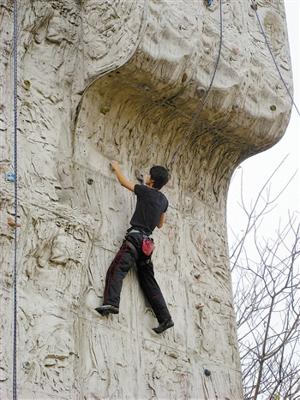person: (95, 159, 174, 335)
